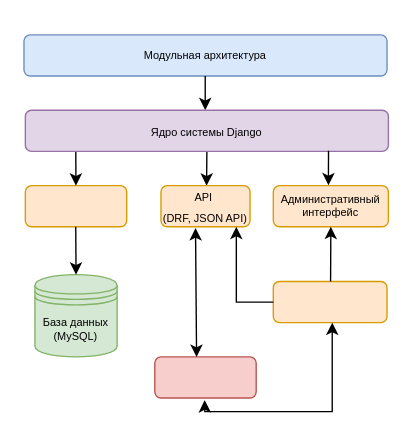
This 412x448 diagram has some shape labels left out. The box of each missing label's shape, as (x1, y1, x2, y2) in pixels:
Внешние сервисы: (153, 356, 256, 398)
Модели данных: (24, 184, 127, 227)
Пользовательский интерфейс: (272, 280, 387, 323)
